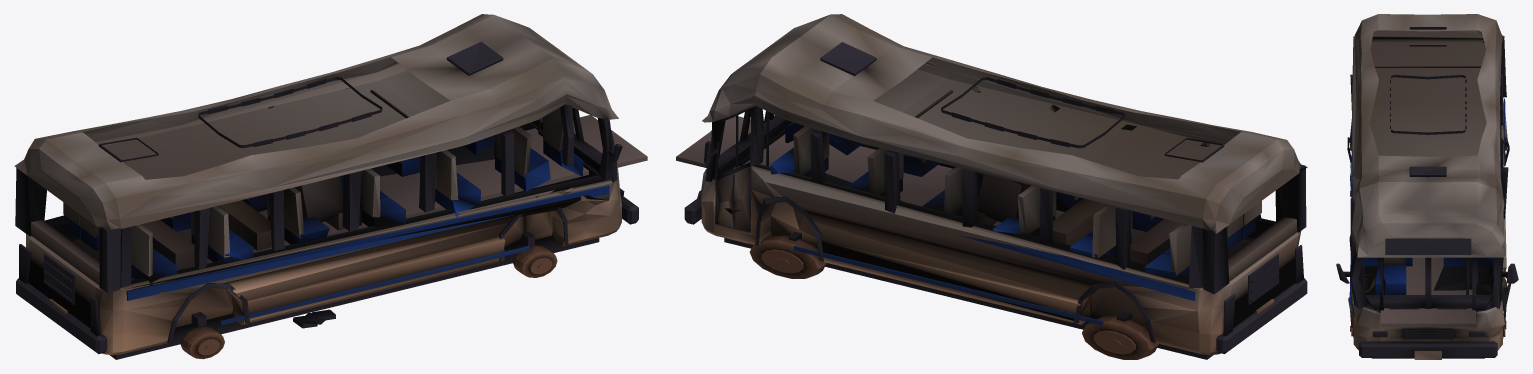
Rendered from veh.evac-bus.burned.lod1.glb.
3 views of the same model, side by side, from view 1: azimuth 30°, elevation 25°; view 2: azimuth 150°, elevation 25°; view 3: azimuth 270°, elevation 25° (orthographic). The views are drawn at different scales.
Visible parts, largest first — view 1: body, wheelRL, wheelFL; view 2: body, wheelRR, wheelFR; view 3: body.
Part boxes in pixels (x1,y1,x2,y2): body: [14, 14, 647, 359]; wheelRL: [180, 326, 224, 359]; wheelFL: [513, 245, 557, 277]; body: [676, 14, 1307, 359]; wheelRR: [1082, 316, 1158, 359]; wheelFR: [749, 235, 826, 278]; body: [1336, 14, 1518, 359].
Size of the model in its own units: 9.07 by 3.11 by 3.06.
